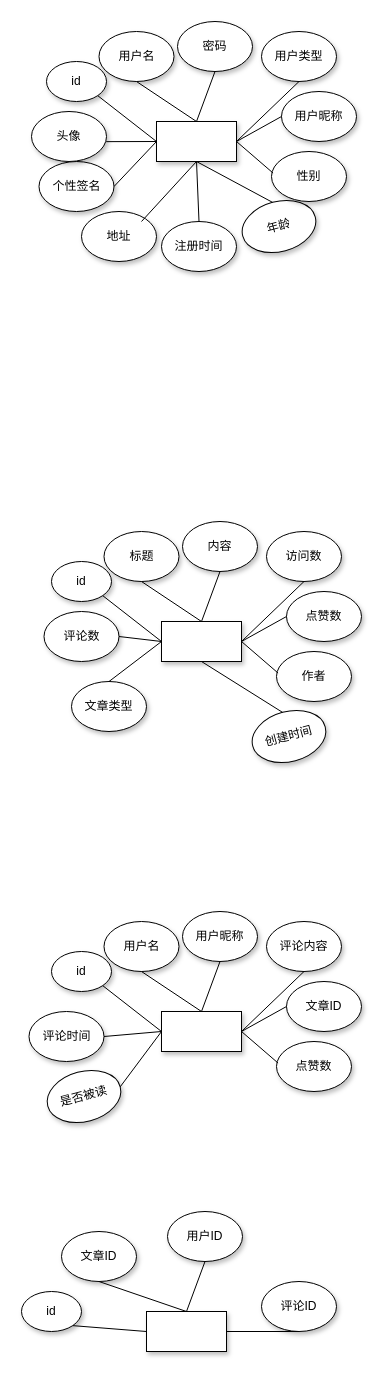
The diagram is 385 pixels wide and 1376 high, and some of its shapes have lost their labels. Each missing label, with the centre of its shape:
"文章表" goes at [202,642].
"用户表" goes at [197,142].
"评论点赞表" goes at [187,1332].
"评论表" goes at [202,1032].
